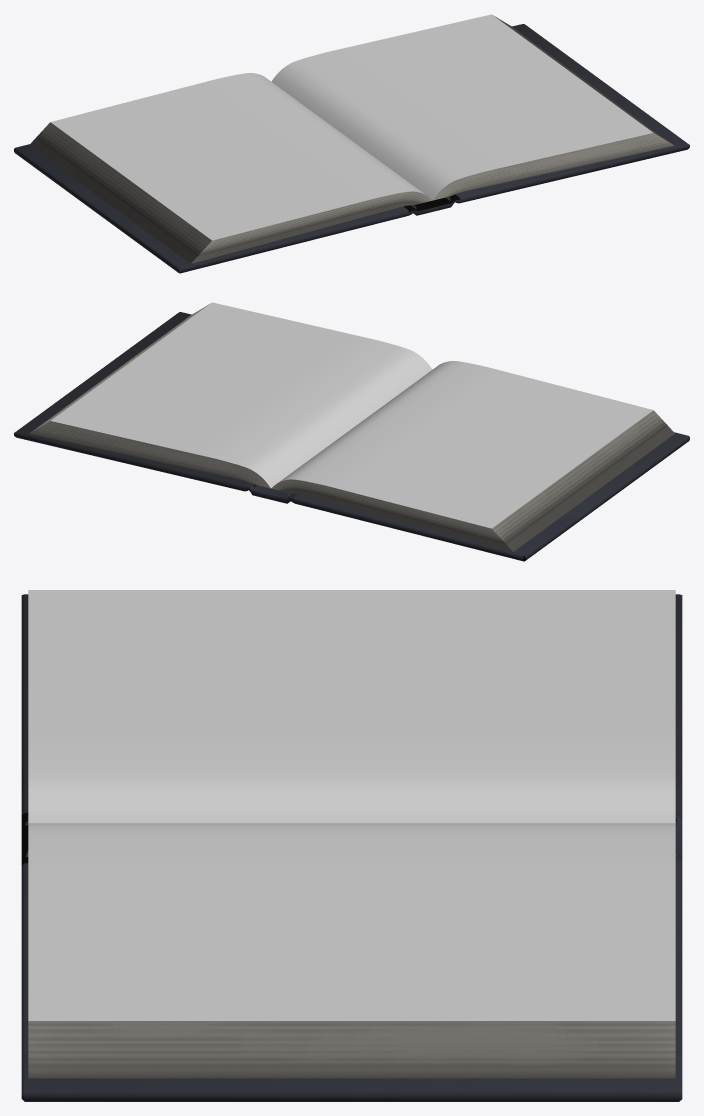
The model's file is NoLang.fbx.
3 renders of one model, top to bottom at view 1: azimuth 30°, elevation 25°; view 2: azimuth 150°, elevation 25°; view 3: azimuth 270°, elevation 25°, orthographic. The views are drawn at different scales.
Visible parts, largest first — view 1: Book.001; view 2: Book.001; view 3: Book.001.
Boxes of the visible parts, box(x1,y1,x2,y2) form: Book.001: box(14, 14, 689, 273); Book.001: box(14, 302, 689, 561); Book.001: box(21, 590, 682, 1101).
Size of the model in its own units: 71.4 by 3.58 by 40.
